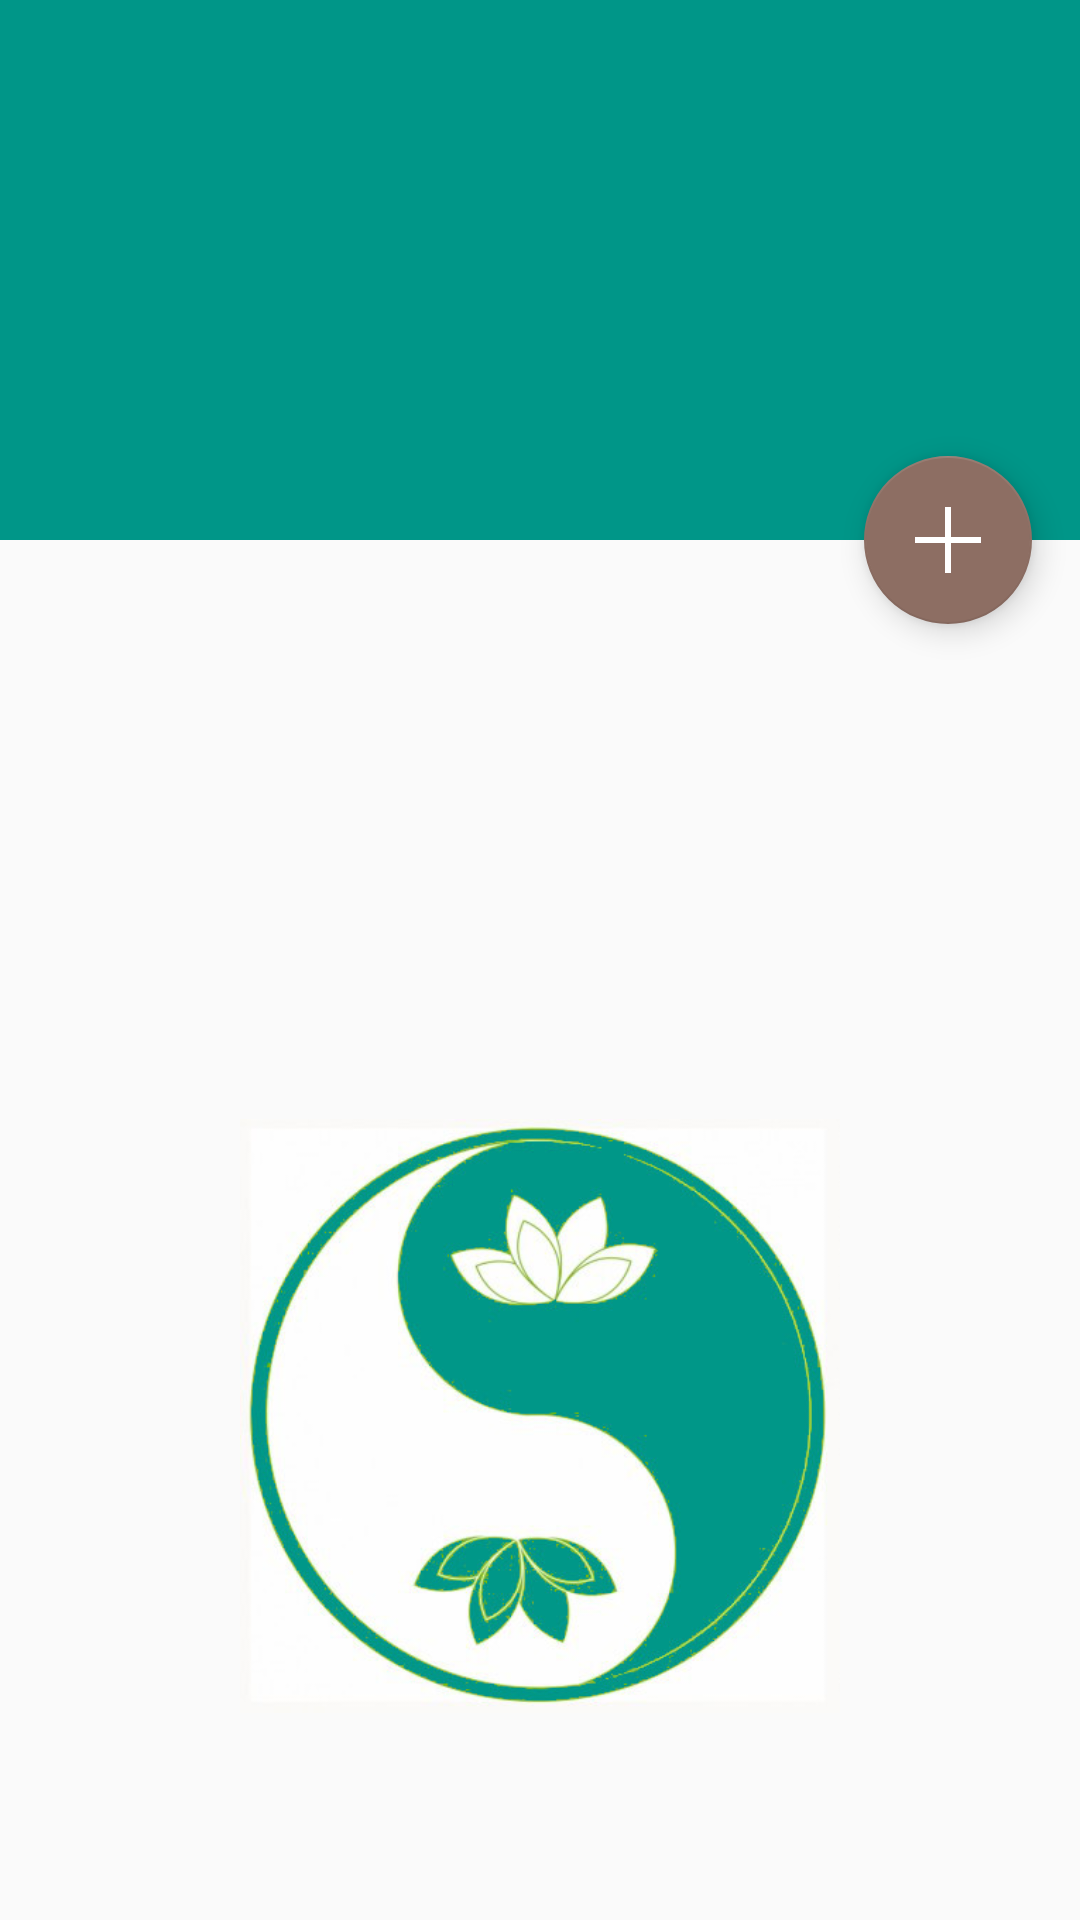

Icon click points for this 1080 x 1920 phone screenshot, format point (x, y):
plus: point (948, 540)
